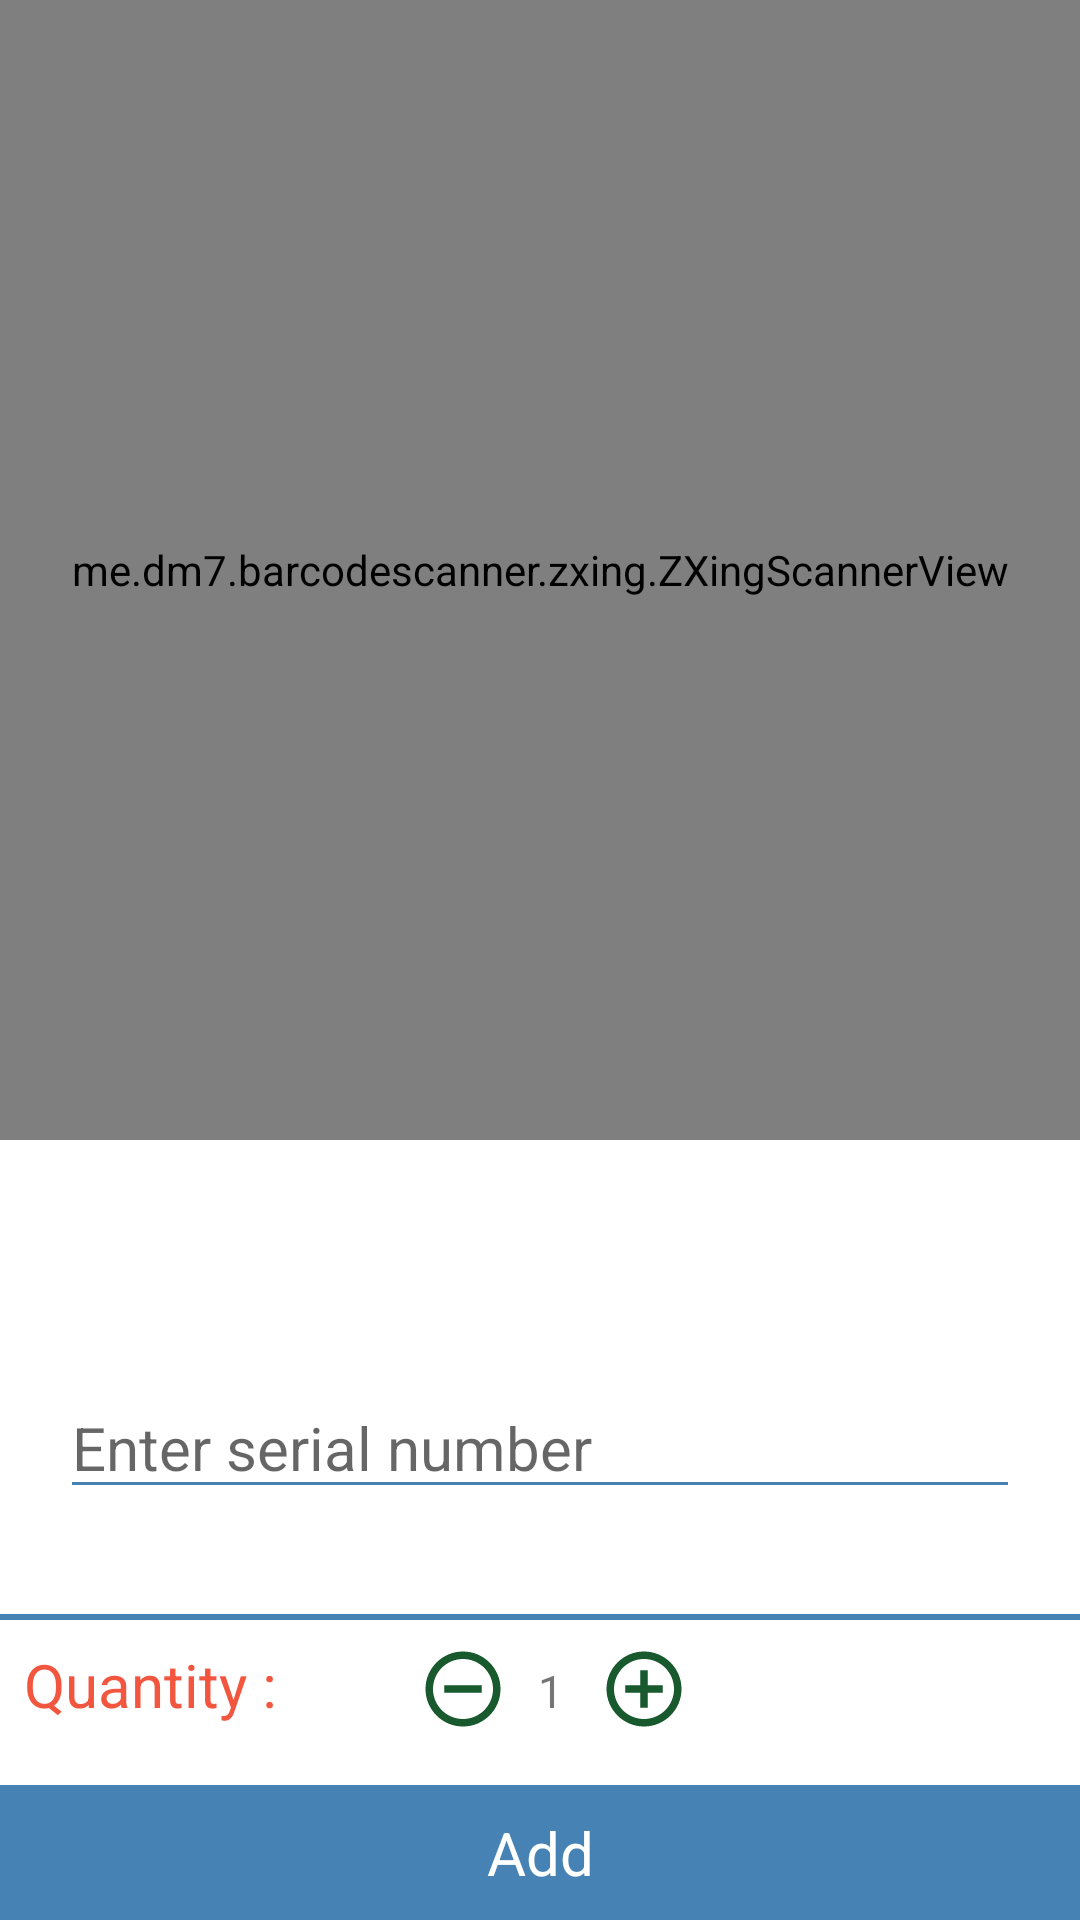

Locate icon controls on the screen. Image size 1080*1920, boxes as {"left": x1, "top": y1, "right": x2, "bottom": y2}.
add circle: {"left": 606, "top": 1651, "right": 682, "bottom": 1727}
remove circle: {"left": 425, "top": 1651, "right": 501, "bottom": 1727}
